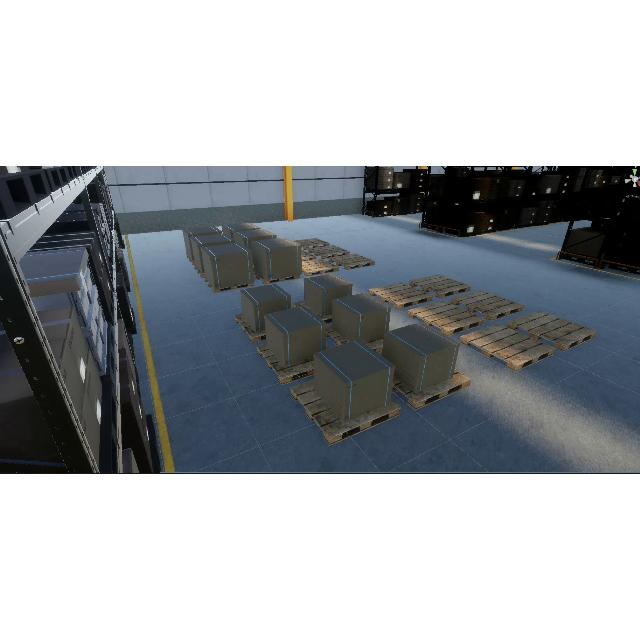wooden_pallet: (289, 380, 402, 445), (458, 323, 555, 371), (507, 310, 597, 353), (390, 369, 471, 407), (408, 300, 485, 337), (255, 343, 314, 386), (450, 289, 523, 321), (369, 282, 433, 310), (409, 273, 472, 298), (234, 311, 267, 344), (203, 276, 254, 292), (329, 253, 374, 270), (253, 269, 300, 285), (302, 258, 340, 276), (308, 244, 349, 259), (293, 238, 331, 250), (302, 249, 316, 261)
